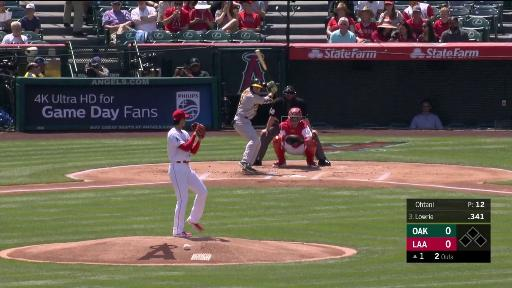pitcher: (166, 108, 215, 237)
